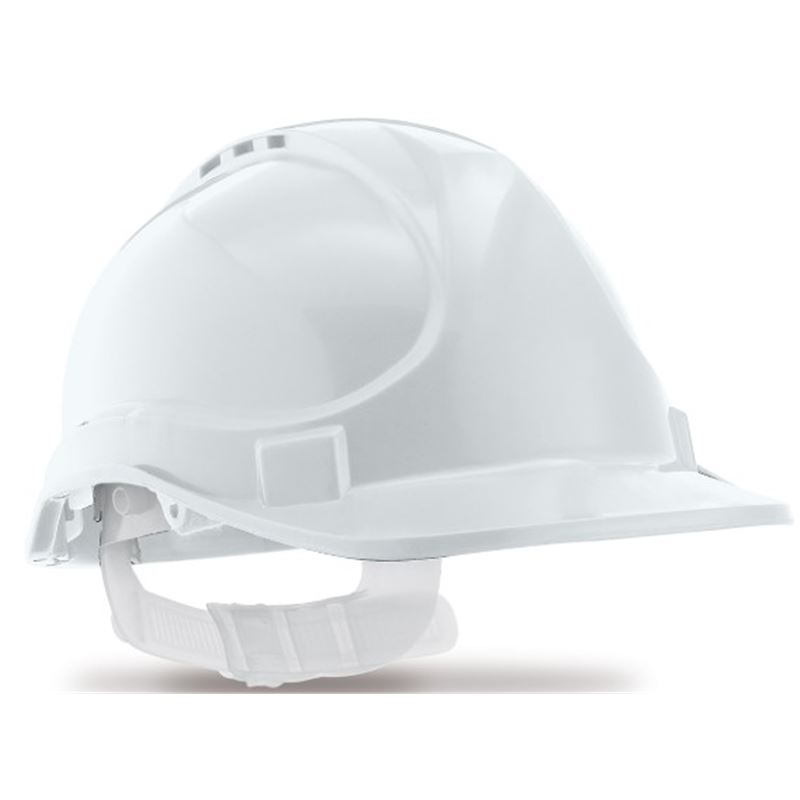casco: (23, 113, 796, 690)
